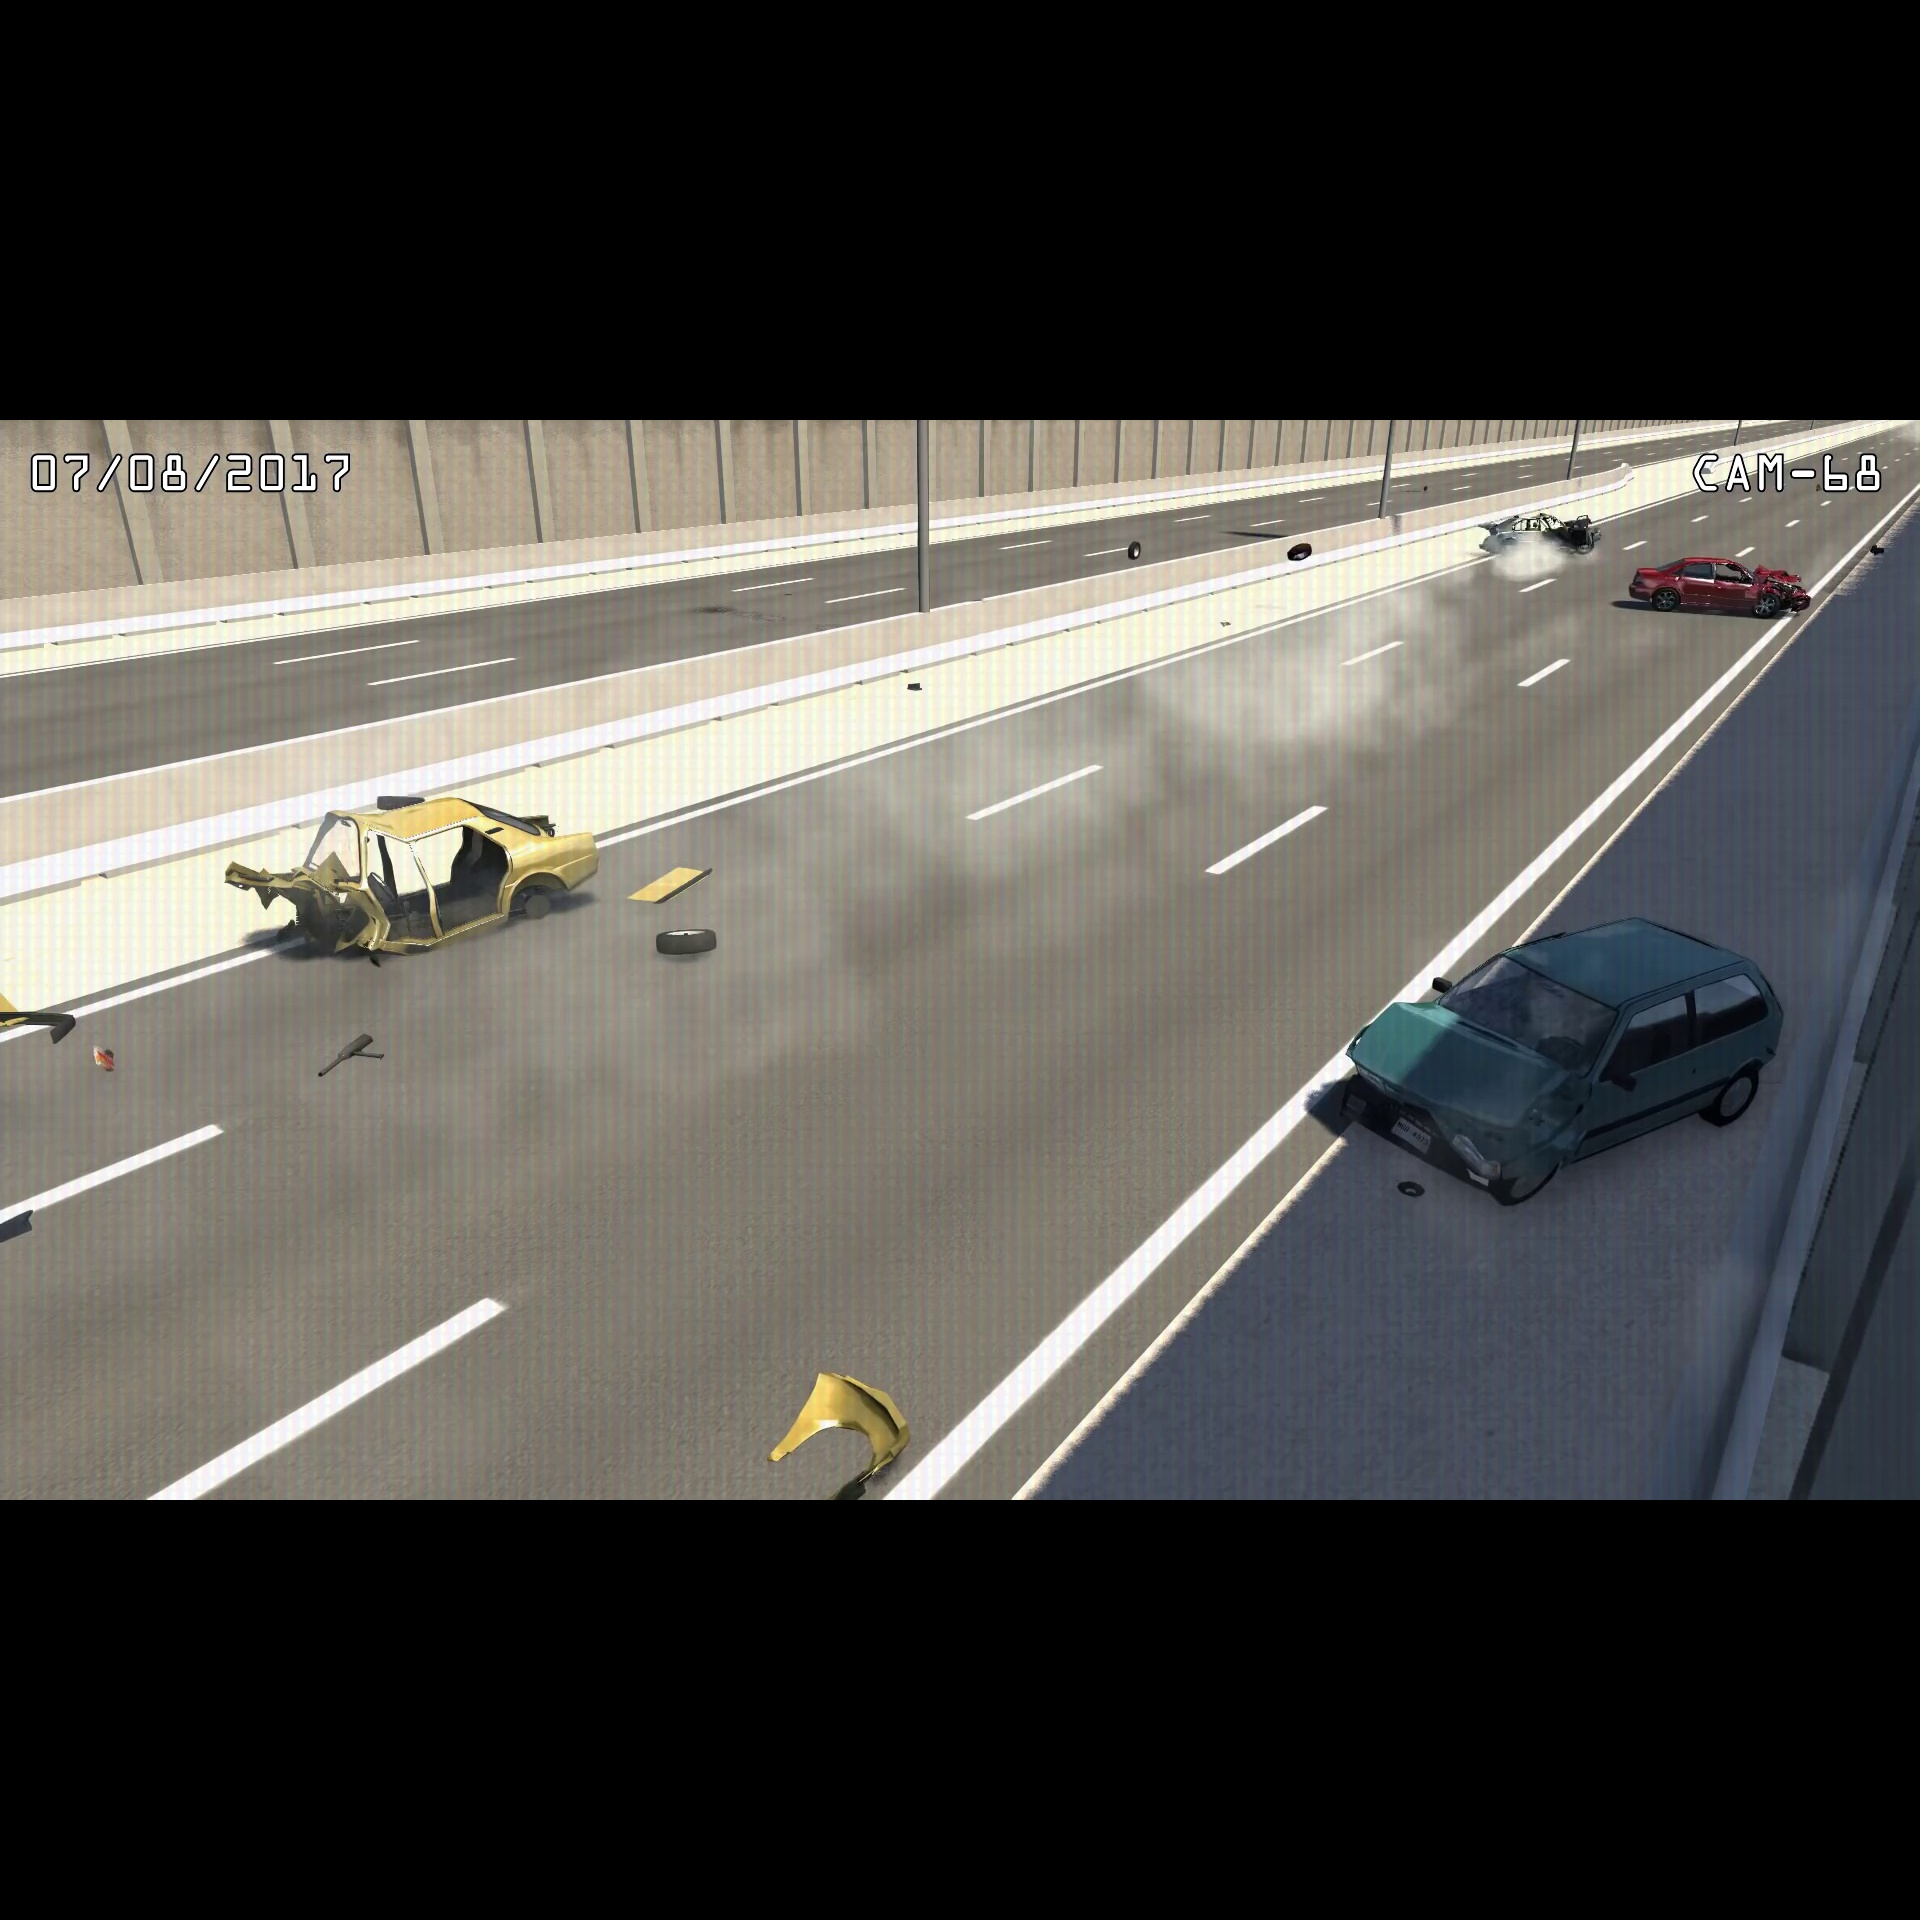vehicle: (1320, 911, 1795, 1210), (215, 777, 612, 976), (1623, 550, 1815, 628), (1473, 503, 1604, 568)
